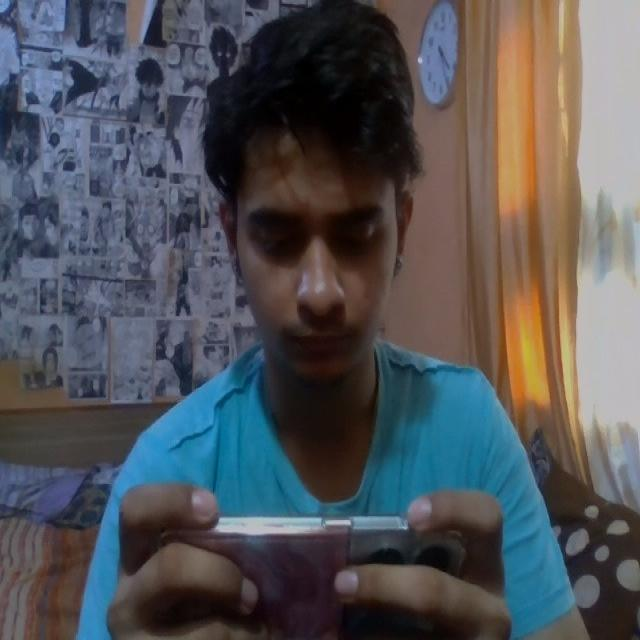phone: (156, 526, 478, 640)
using-phone: (73, 5, 590, 640)
